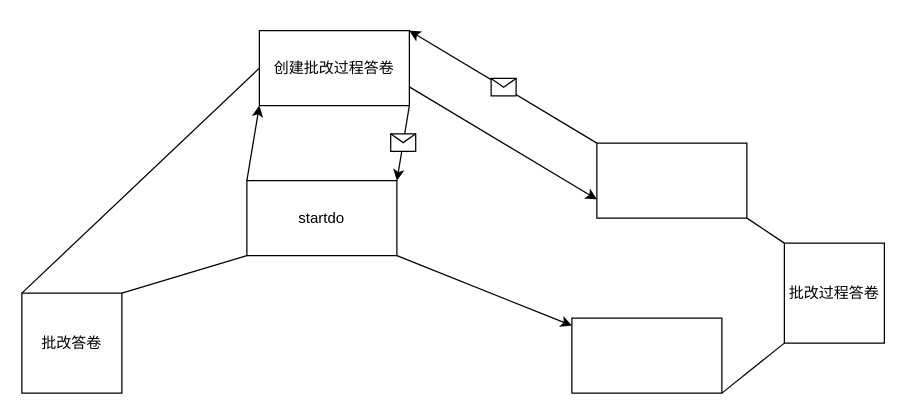
This 906x416 diagram has some shape labels left out. Here are the shapes that lost their labels. From the top down, the centre of each, then its label:
the point at 671,180: 创建接口
the point at 646,355: 开始批改接口
